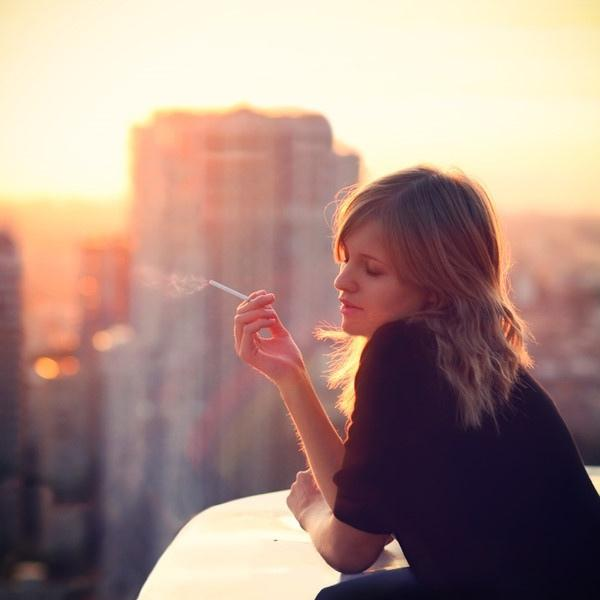person: (233, 168, 600, 600)
